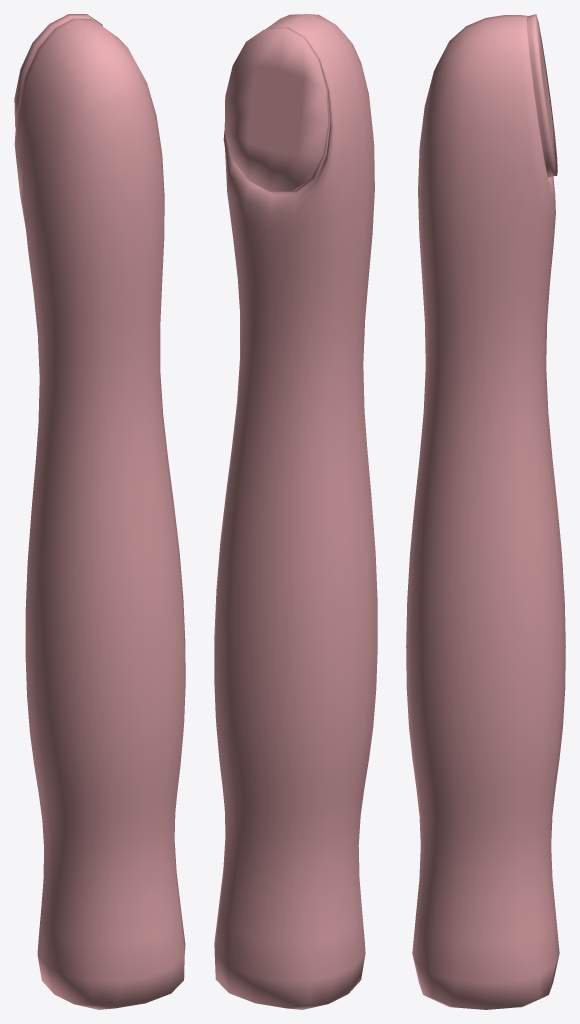
File: finger.fbx
3 views of the same model, side by side, from view 1: azimuth 30°, elevation 25°; view 2: azimuth 150°, elevation 25°; view 3: azimuth 270°, elevation 25° (orthographic). The views are drawn at different scales.
Parts seen in each view (by area): view 1: finger; view 2: finger; view 3: finger.
Part boxes in pixels (x1,y1,x2,y2): finger: (14,14,185,1009); finger: (214,14,377,1009); finger: (406,14,565,1009).
Size of the model in its own units: 37.06 by 247 by 36.86.
